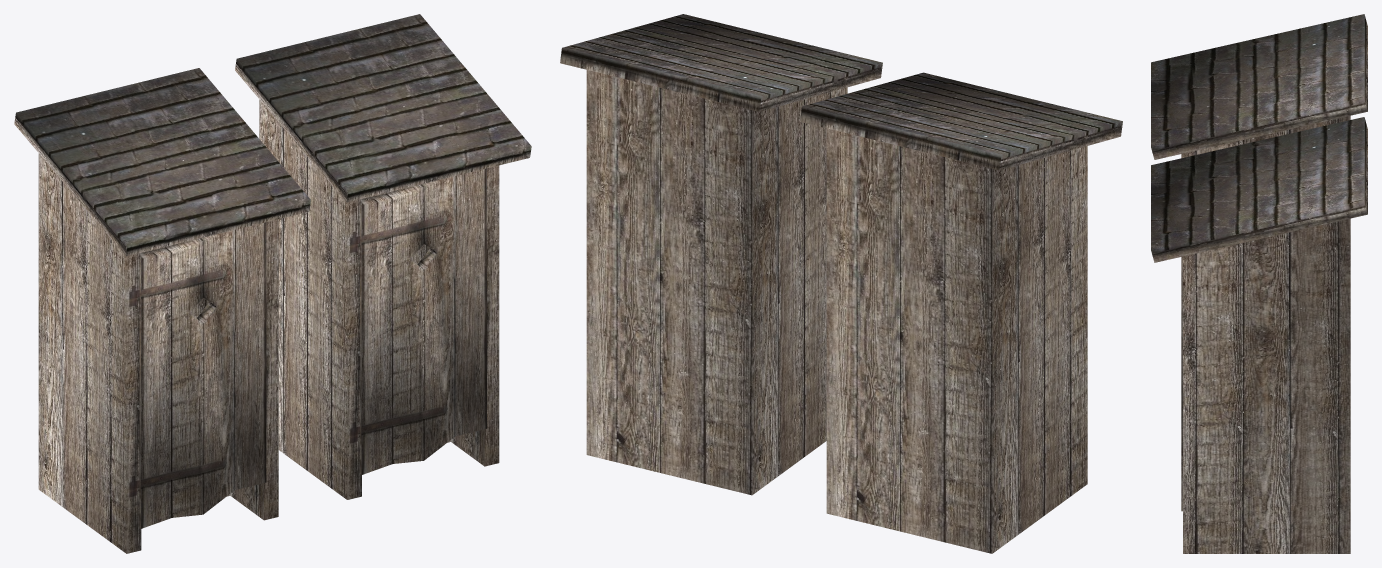
The model's file is toilet.obj.
The picture shows the model from 3 angles, left to right: view 1: azimuth 30°, elevation 25°; view 2: azimuth 150°, elevation 25°; view 3: azimuth 270°, elevation 25°; orthographic projection. The views are drawn at different scales.
Visible parts, largest first — view 1: highpoly_toilet_highpoly_toilet_auv.001, highpoly_toilet_highpoly_toilet_auv, toilet_door_toilet_door_auv.001, toilet_door_toilet_door_auv; view 2: highpoly_toilet_highpoly_toilet_auv.001, highpoly_toilet_highpoly_toilet_auv; view 3: highpoly_toilet_highpoly_toilet_auv, highpoly_toilet_highpoly_toilet_auv.001, toilet_door_toilet_door_auv.
Boxes of the visible parts, left/top/right/bottom form: highpoly_toilet_highpoly_toilet_auv.001: left=14, top=68, right=310, bottom=553; highpoly_toilet_highpoly_toilet_auv: left=235, top=14, right=531, bottom=499; toilet_door_toilet_door_auv.001: left=139, top=222, right=266, bottom=528; toilet_door_toilet_door_auv: left=360, top=168, right=486, bottom=475; highpoly_toilet_highpoly_toilet_auv.001: left=800, top=72, right=1122, bottom=553; highpoly_toilet_highpoly_toilet_auv: left=560, top=14, right=882, bottom=495; highpoly_toilet_highpoly_toilet_auv: left=1151, top=117, right=1367, bottom=553; highpoly_toilet_highpoly_toilet_auv.001: left=1151, top=14, right=1367, bottom=159; toilet_door_toilet_door_auv: left=1181, top=256, right=1182, bottom=511.
Size of the model in its own units: 9.24 by 8.21 by 4.49.
Materials: 3 (3 with a texture image).
